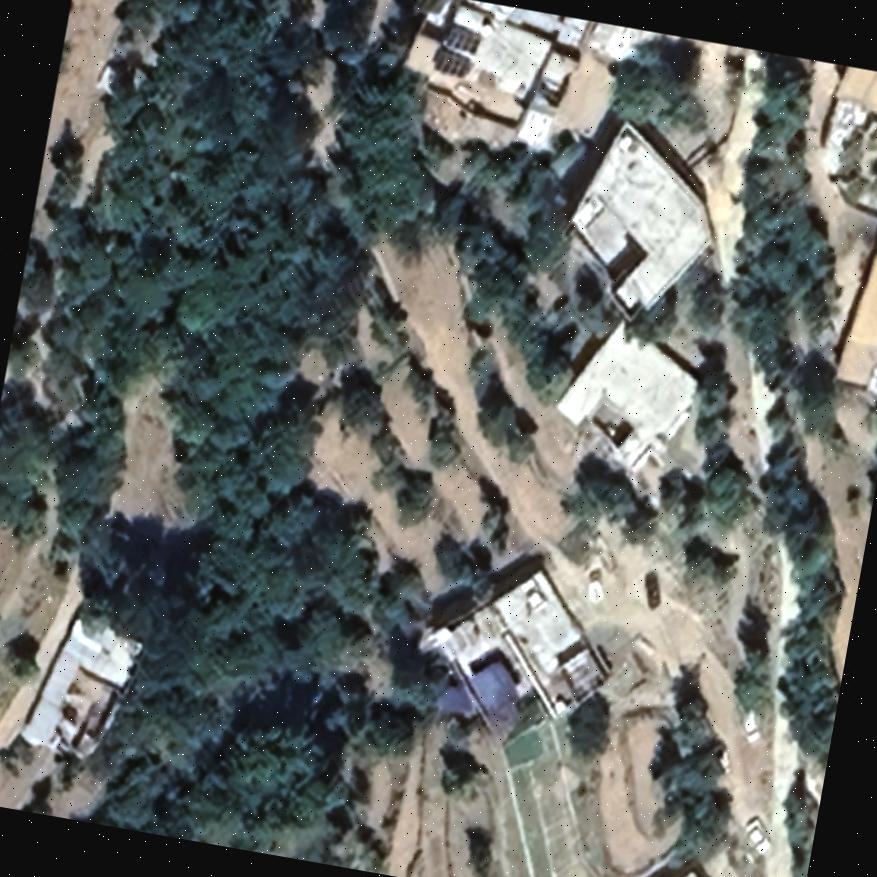Solarpanel: (427, 42, 474, 80), (441, 21, 483, 56)
